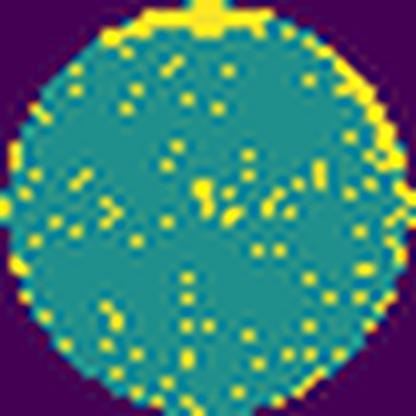Edge-Loc: (300, 26, 408, 177), (103, 0, 276, 60)
